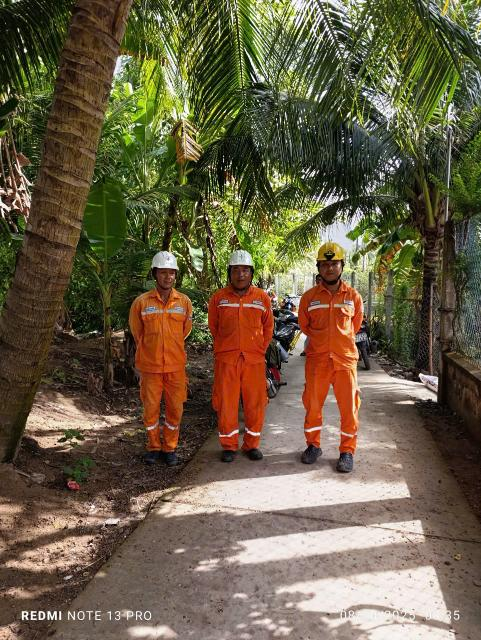helmet: (310, 235, 351, 266), (142, 251, 184, 275), (229, 251, 252, 269)
shoes: (332, 446, 361, 476), (299, 441, 320, 469), (213, 443, 236, 466), (140, 444, 160, 468), (162, 444, 181, 468), (241, 447, 264, 464)
